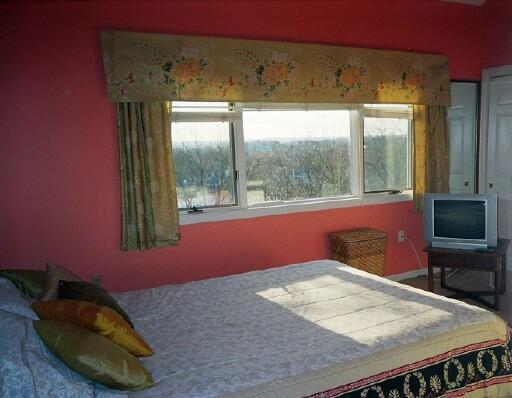Cama: (11, 266, 507, 397)
Ventana: (130, 53, 417, 207)
